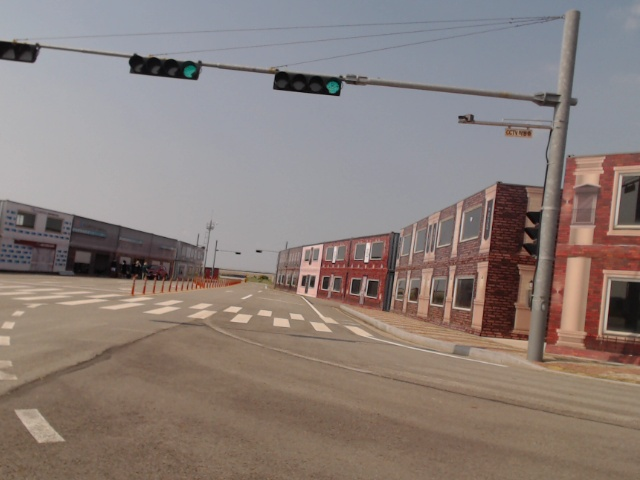straight_green_4: (128, 55, 203, 80), (272, 70, 342, 96)
